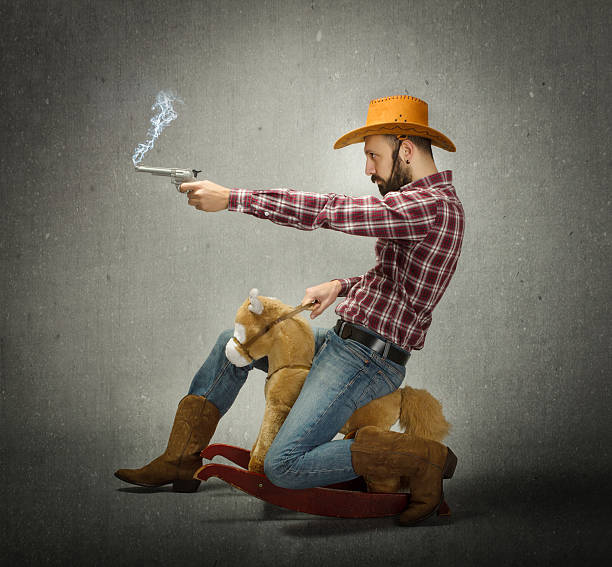gun: (134, 164, 200, 194)
